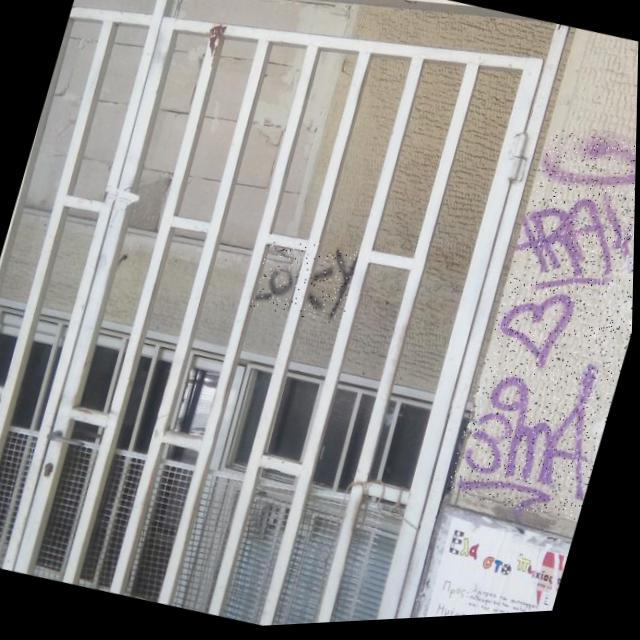-: (448, 128, 638, 532), (249, 232, 364, 334)
